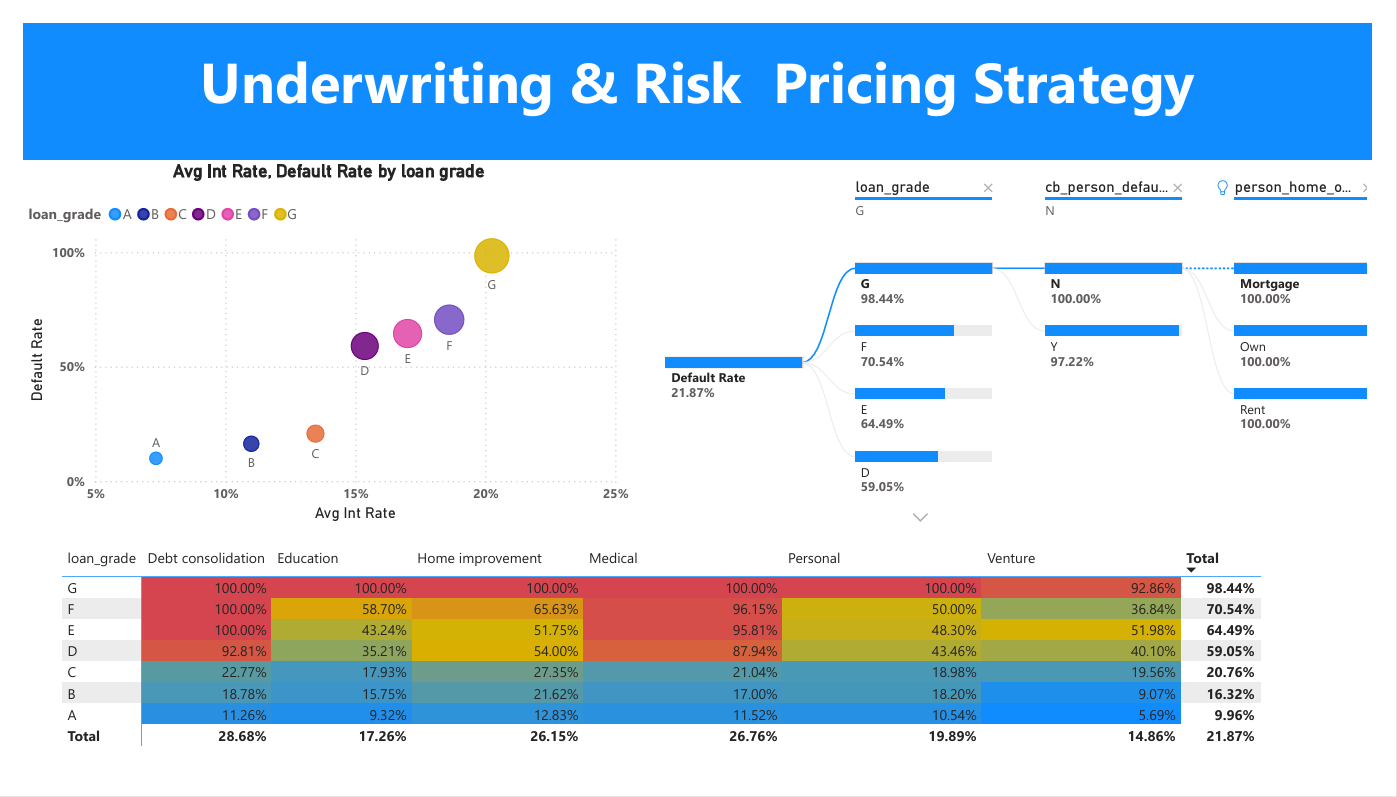

Layout of this report page (visuals, bound fields, positions):
{"tool":"powerbi","page":{"name":"Underwriting & Risk  Pricing Strategy","canvas":[1280,720],"ordinal":2},"visuals":[{"type":"scatterChart","title":"Avg Int Rate, Default Rate  by loan grade","fields":{"X":["fact.Avg Int Rate"],"Y":["fact.Default Rate"],"Series":["dim loan.loan_grade"],"Size":["fact.Default Rate"]},"box":[0,130,580,348],"z":0},{"type":"decompositionTreeVisual","fields":{"Analyze":["fact.Default Rate"],"ExplainBy":["dim loan.loan_grade","dim person.cb_person_default_on_file","dim person.person_home_ownership"]},"box":[580,130,596,362],"z":1000},{"type":"pivotTable","fields":{"Rows":["dim loan.loan_grade"],"Columns":["dim loan.loan_intent"],"Values":["fact.Default Rate"]},"box":[32,492,1248,228],"z":2000},{"type":"textbox","box":[0,0,1198,130],"z":3000}]}

Visuals, with their boxes in screenshot pixels (x1, y1, x2, y2), scaled from the page's 1280x720 canvas onto the 1397x797 screenshot:
"Avg Int Rate, Default Rate  by loan grade" scatterChart: x1=0 y1=144 x2=633 y2=529
decompositionTreeVisual - fact.Default Rate x dim loan.loan_grade: x1=633 y1=144 x2=1283 y2=545
pivotTable - dim loan.loan_grade x dim loan.loan_intent: x1=35 y1=545 x2=1396 y2=796
textbox: x1=0 y1=0 x2=1308 y2=144
